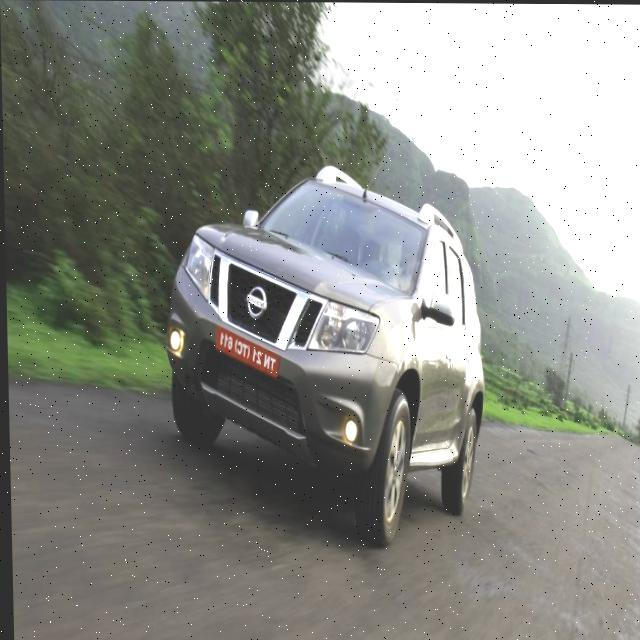plate: (209, 325, 278, 379)
